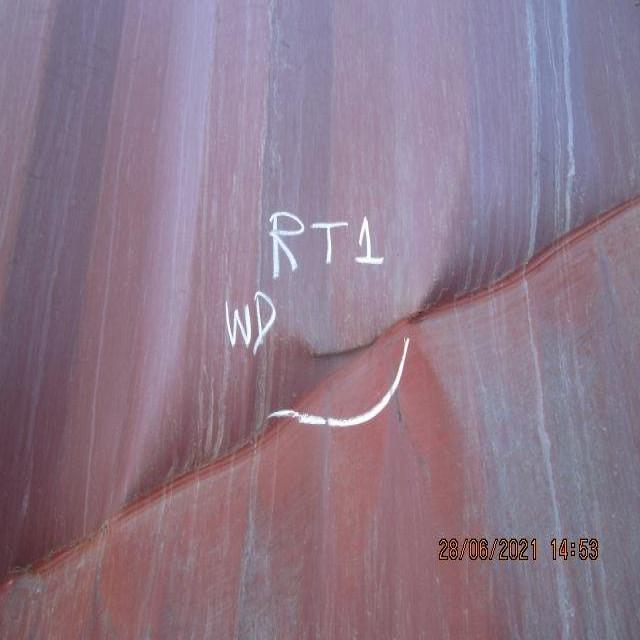Dent: (6, 133, 632, 583)
